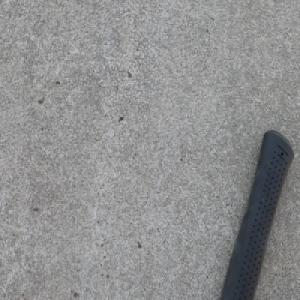Hammer: (217, 126, 295, 299)
